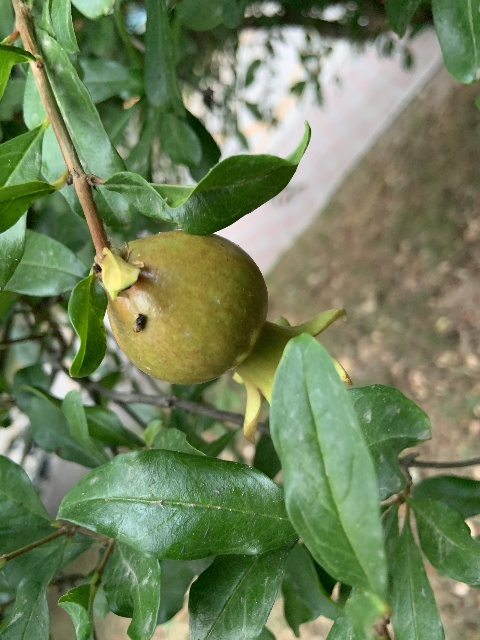mid-growth: (105, 232, 353, 443)
